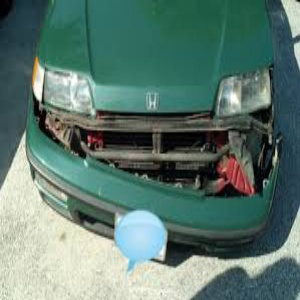bumper: (170, 168, 282, 252)
head_lights: (213, 66, 278, 124)
